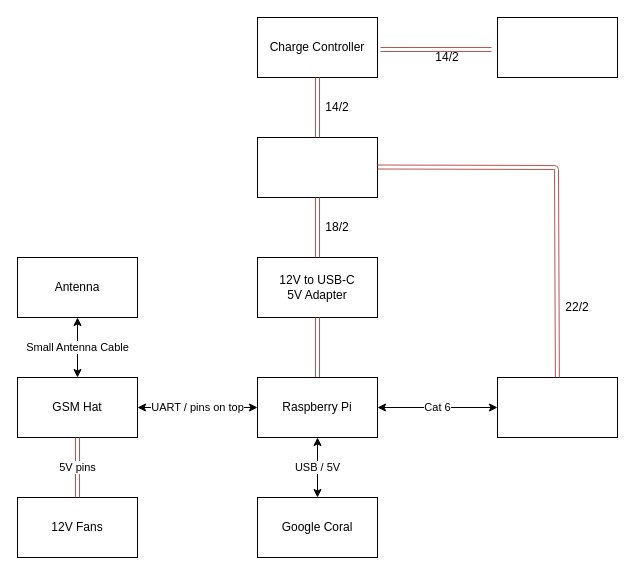
This 635x575 diagram has some shape labels left out. Each missing label, with the centre of its shape:
"12V Battery" belongs at [317,167].
"IP Camera" belongs at [557,407].
"Solar Panel" belongs at [557,47].
